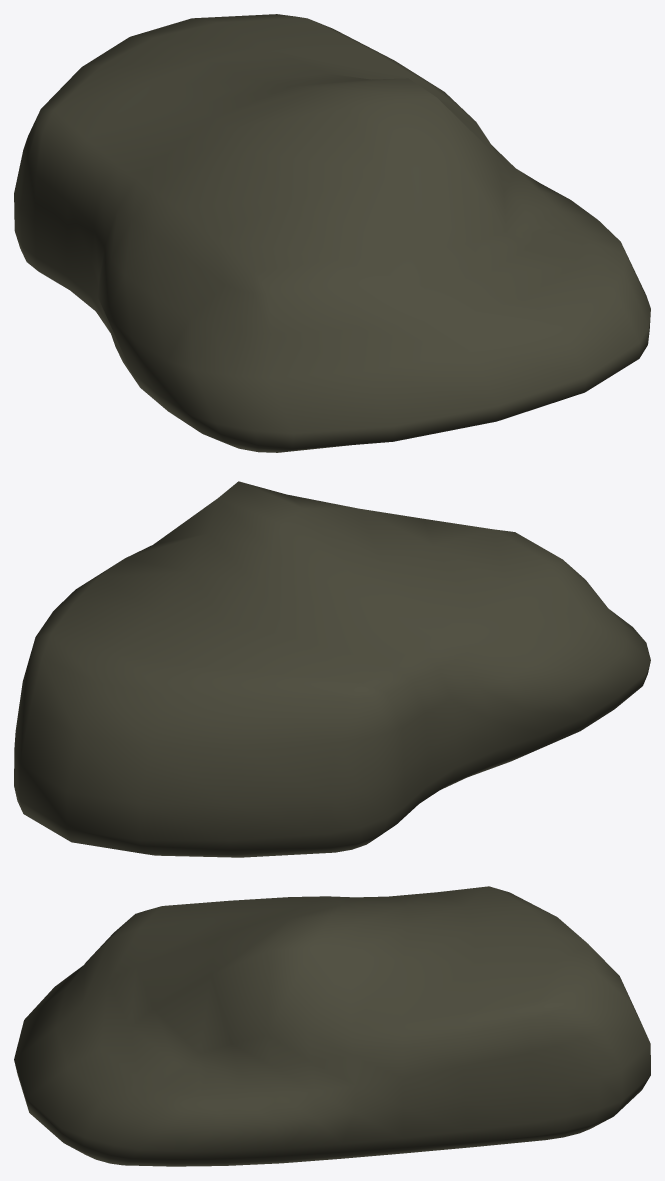
Rendered from rock5.fbx.
3 views of the same model, one above another, from view 1: azimuth 30°, elevation 25°; view 2: azimuth 150°, elevation 25°; view 3: azimuth 270°, elevation 25° (orthographic). The views are drawn at different scales.
Parts seen in each view (by area): view 1: node_id150; view 2: node_id150; view 3: node_id150.
Boxes of the visible parts, left/top/right/bottom form: node_id150: left=14, top=14, right=650, bottom=452; node_id150: left=14, top=481, right=650, bottom=857; node_id150: left=14, top=886, right=650, bottom=1166.
Bounding box in the file's own units: 0.512 × 0.2218 × 0.7171.
Materials: 1 (1 with a texture image).
